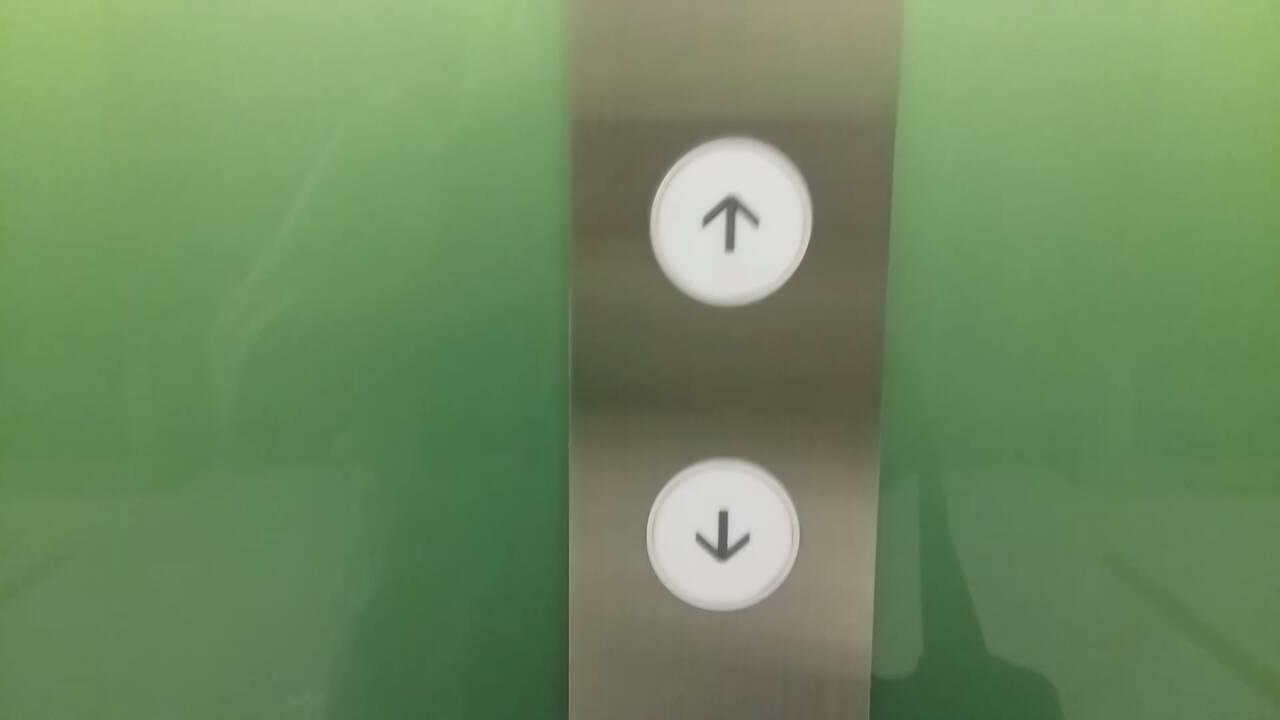down: (634, 445, 809, 623)
up: (641, 126, 817, 320)
